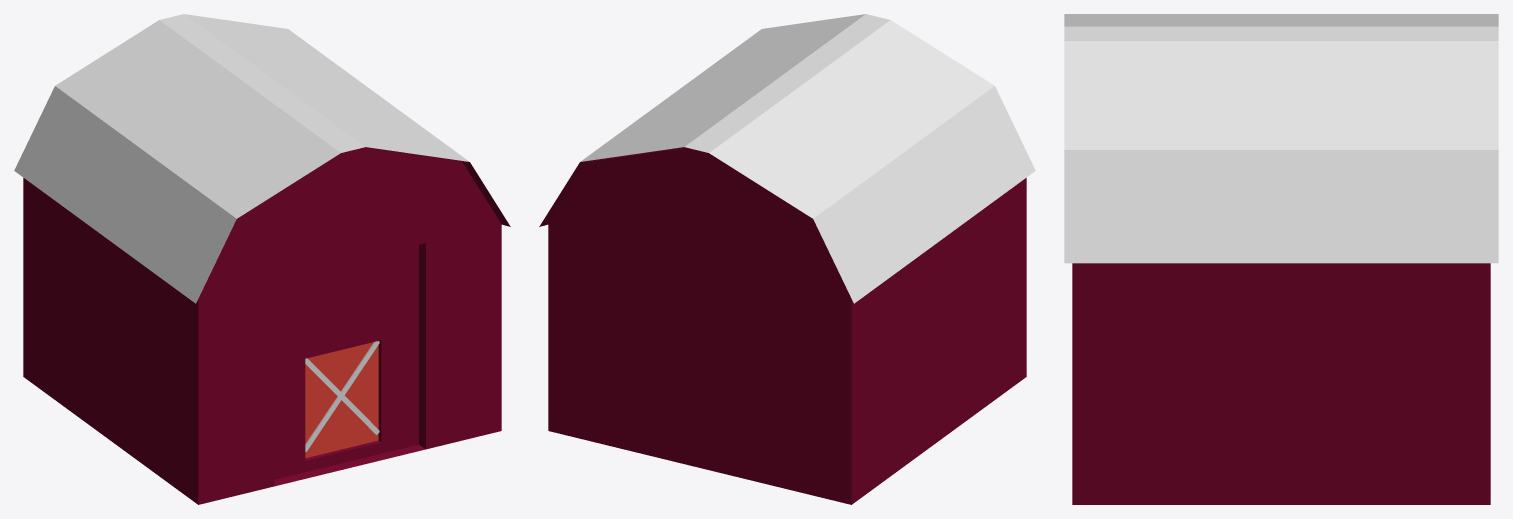
The model's file is barnStation.fbx.
The picture shows the model from 3 angles, left to right: view 1: azimuth 30°, elevation 25°; view 2: azimuth 150°, elevation 25°; view 3: azimuth 270°, elevation 25°; orthographic projection. The views are drawn at different scales.
Parts seen in each view (by area): view 1: Cube; view 2: Cube; view 3: Cube.
Part boxes in pixels (x1,y1,x2,y2): Cube: (14, 14, 510, 504); Cube: (539, 14, 1035, 504); Cube: (1064, 14, 1498, 504).
Size of the model in its own units: 208 by 202 by 208.
